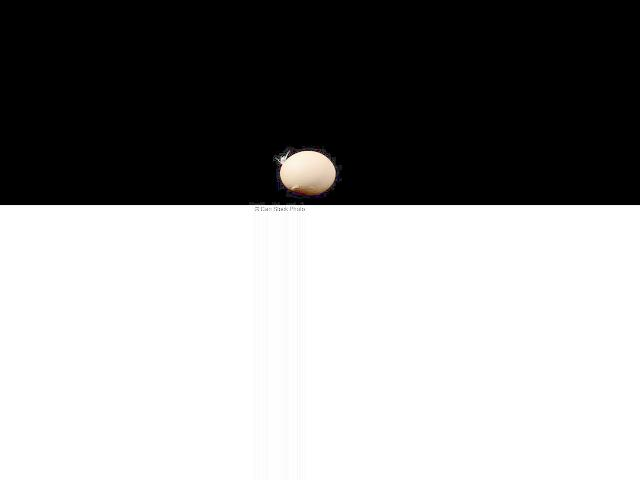egg: (280, 151, 336, 195)
